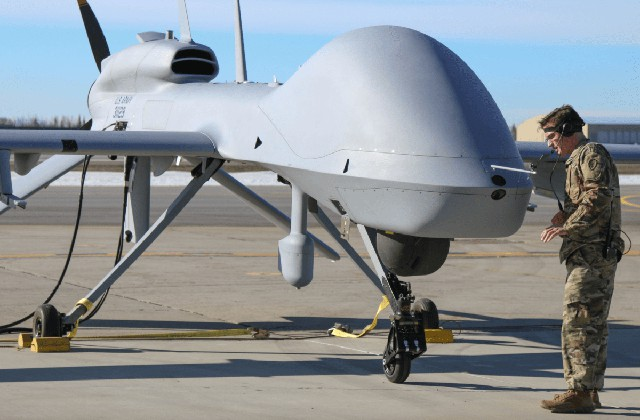maybay_khongnguoilai: (9, 6, 542, 377)
